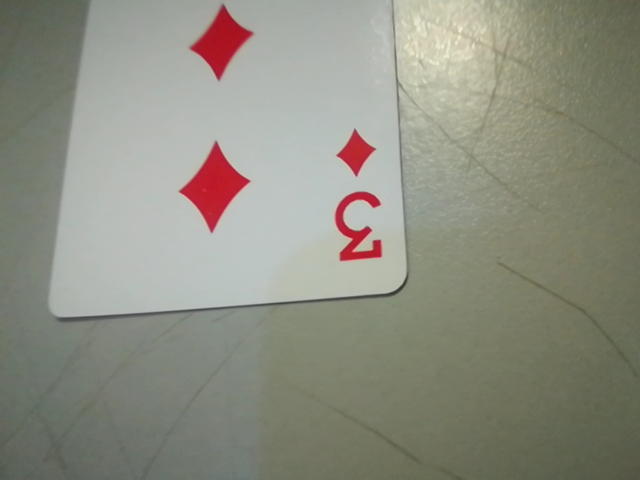fk 3: (318, 120, 395, 278)
